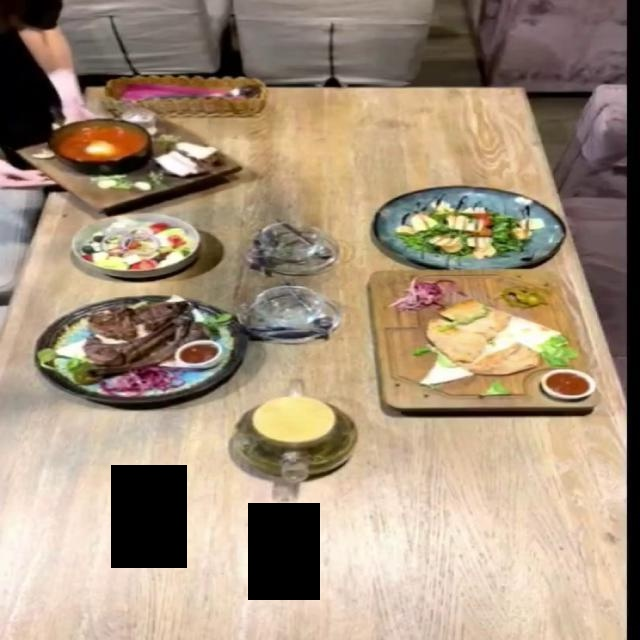meat: (364, 267, 597, 413), (33, 294, 249, 404)
salad: (375, 184, 568, 267), (70, 211, 203, 277)
soup: (18, 110, 248, 215)
tea: (225, 394, 355, 480)
